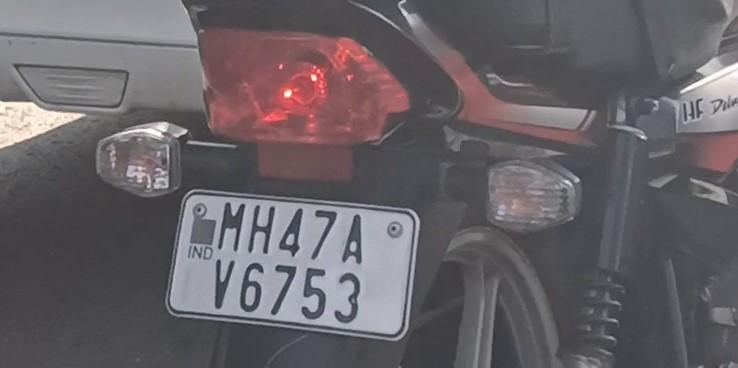MH47AV6753: (167, 191, 415, 337)
